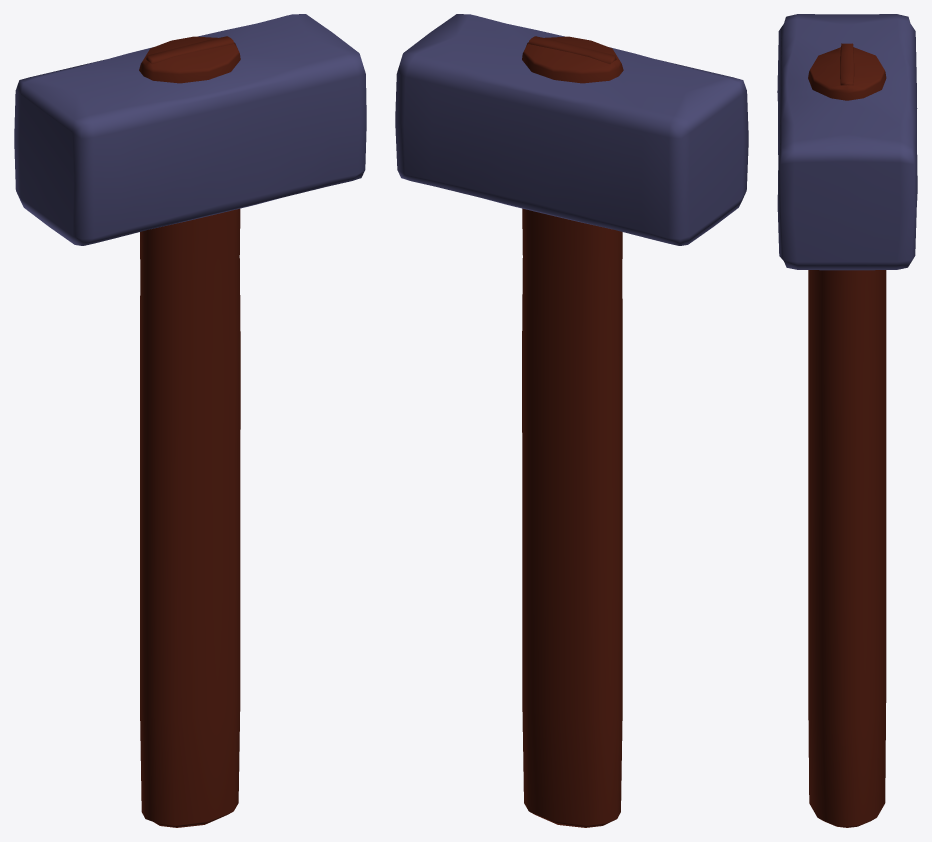
Rendered from Iron_Hammer_1.fbx.
The picture shows the model from 3 angles, left to right: view 1: azimuth 30°, elevation 25°; view 2: azimuth 150°, elevation 25°; view 3: azimuth 270°, elevation 25°; orthographic projection. The views are drawn at different scales.
Parts seen in each view (by area): view 1: Hammer.001; view 2: Hammer.001; view 3: Hammer.001.
Boxes of the visible parts, x1,y1,x2,y2 form: Hammer.001: [14, 14, 366, 827]; Hammer.001: [395, 14, 748, 827]; Hammer.001: [777, 14, 917, 827].
Size of the model in its own units: 14.01 by 35.64 by 6.04.
